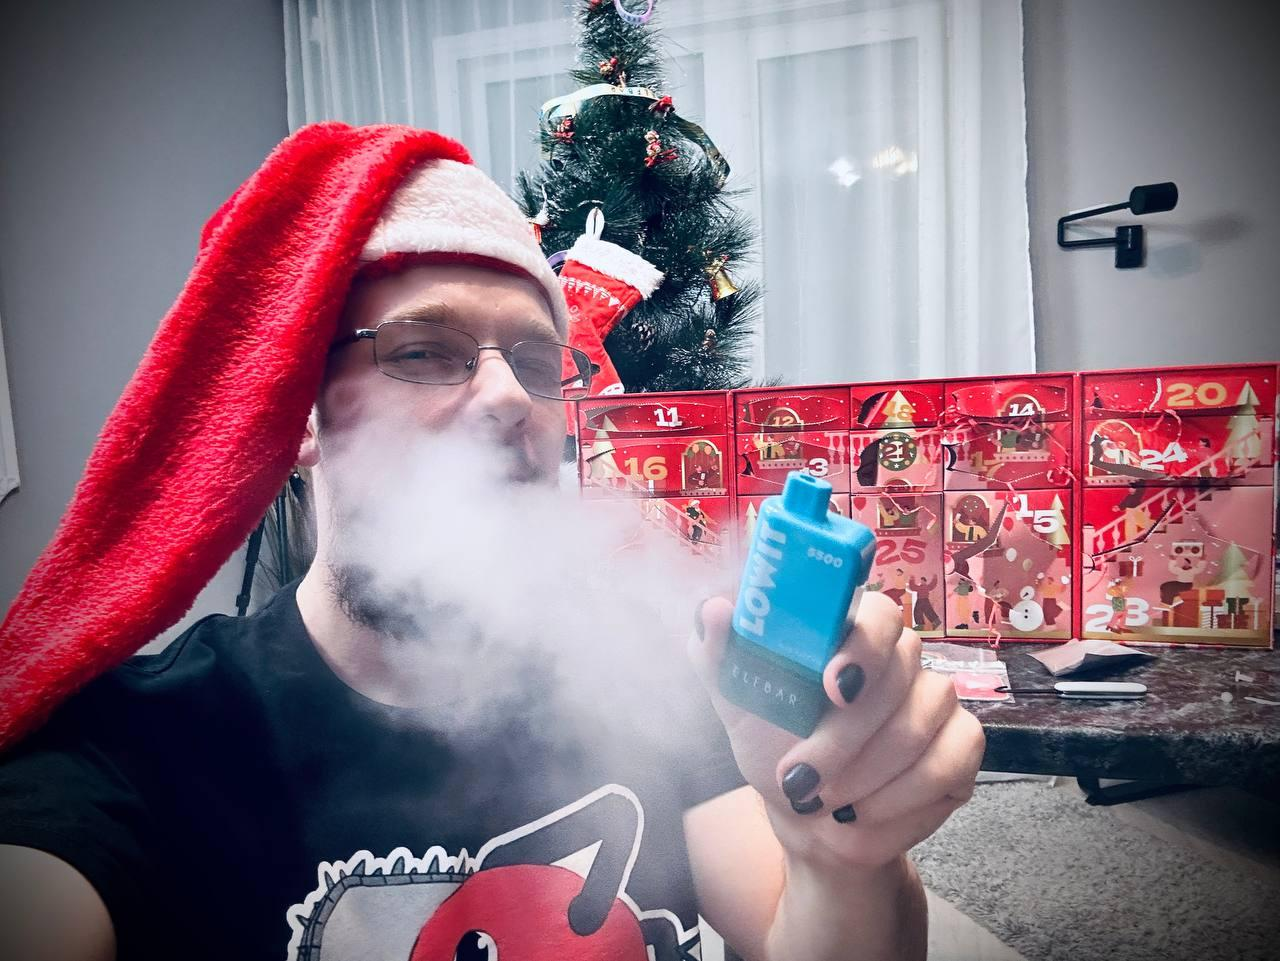Vape: (715, 470, 875, 738)
